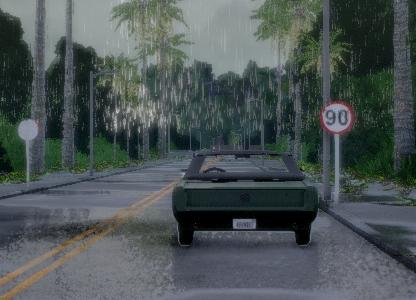Speed_90: (318, 98, 353, 136)
